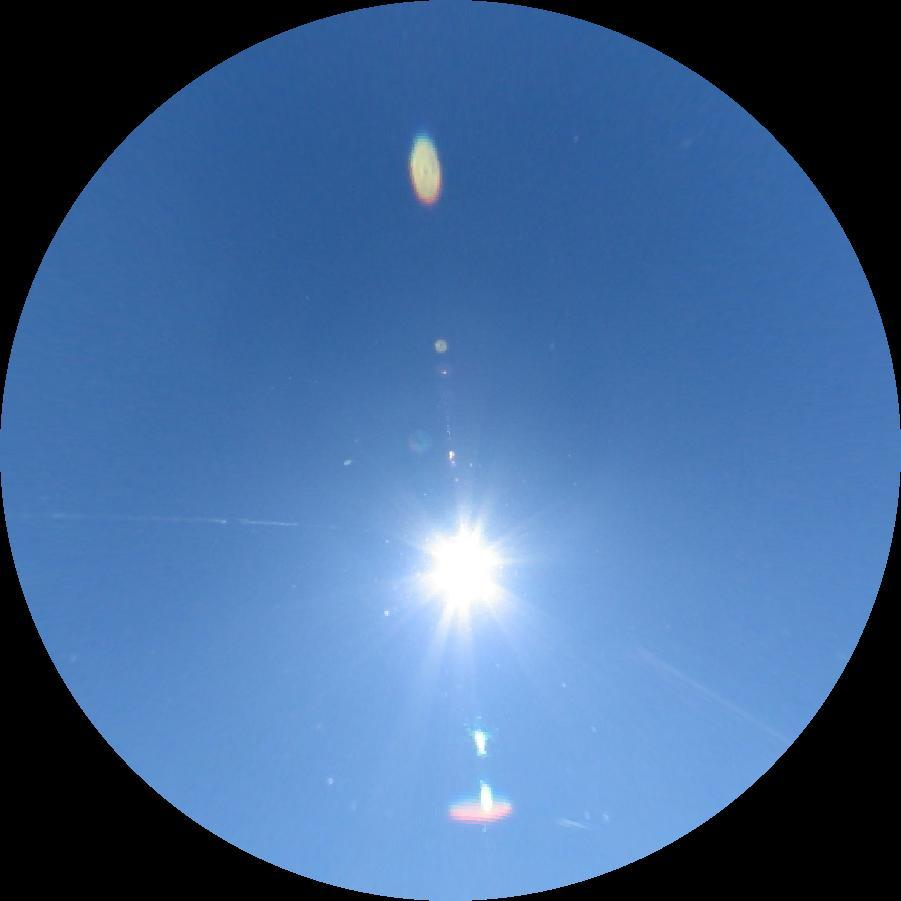parasite: (621, 639, 797, 748), (11, 505, 303, 537)
sun: (412, 517, 512, 619)
